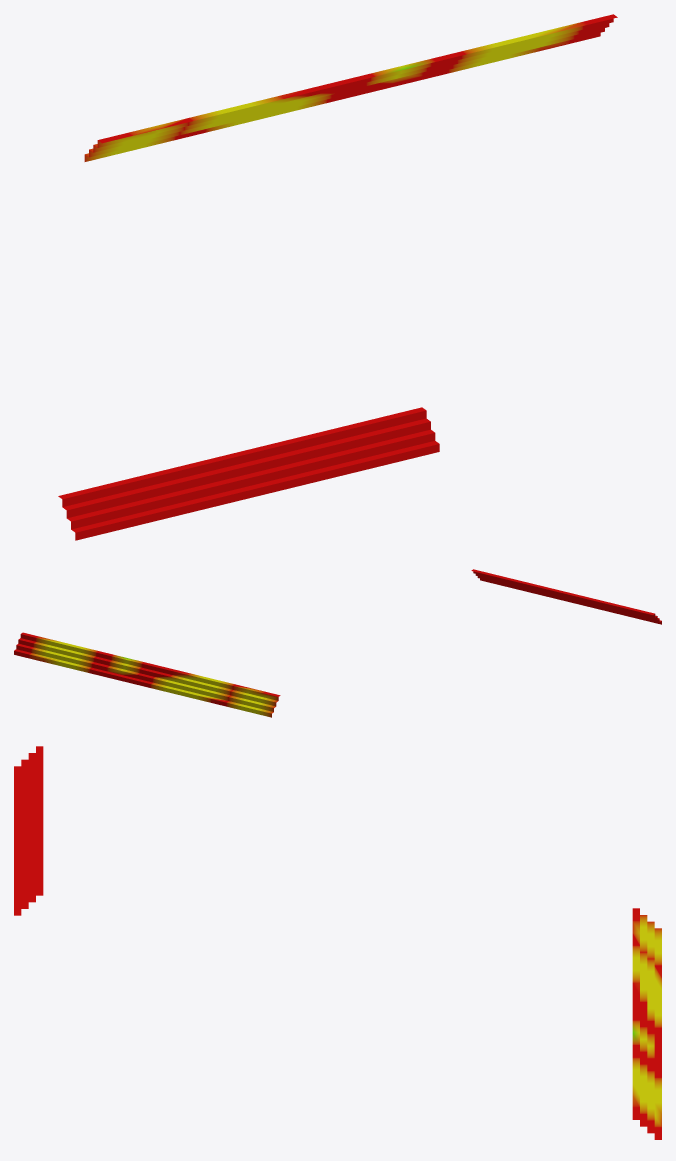
The model's file is transition_2_stairs.obj.
3 views of the same model, one above another, from view 1: azimuth 30°, elevation 25°; view 2: azimuth 150°, elevation 25°; view 3: azimuth 270°, elevation 25° (orthographic). The views are drawn at different scales.
Parts seen in each view (by area): view 1: CastleStairs, ForestStairs; view 2: ForestStairs, CastleStairs; view 3: ForestStairs, CastleStairs.
Boxes of the visible parts, box(x1,y1,x2,y2) form: CastleStairs: box(58, 407, 439, 540); ForestStairs: box(84, 14, 617, 161); ForestStairs: box(14, 632, 280, 717); CastleStairs: box(471, 569, 661, 624); ForestStairs: box(632, 908, 661, 1139); CastleStairs: box(14, 746, 43, 915).
Size of the model in its own units: 30 by 1 by 22.
